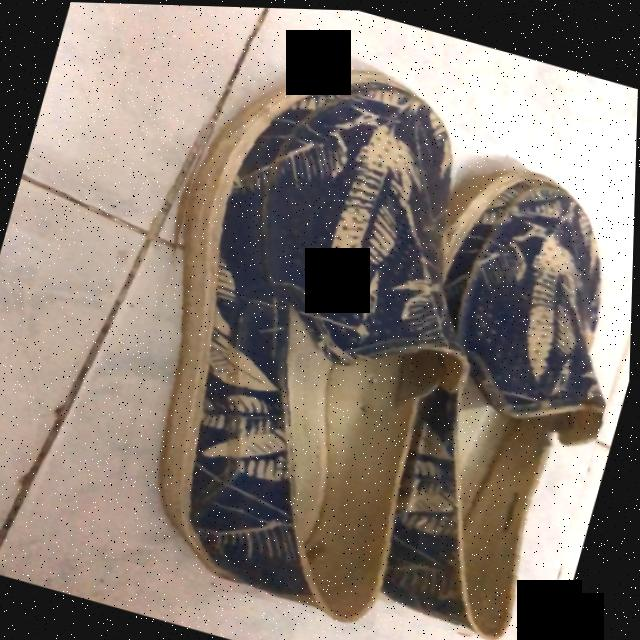shoe: (157, 67, 455, 621), (440, 163, 608, 637)
